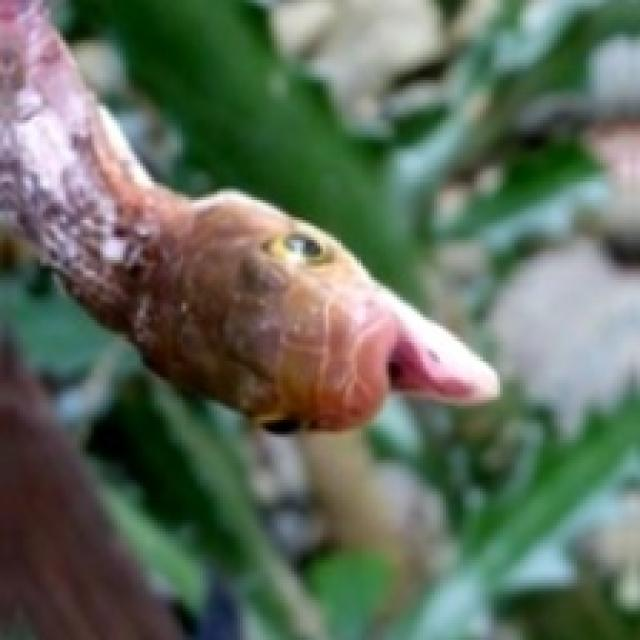reddish rat snake: (0, 0, 497, 429), (0, 340, 180, 637)
